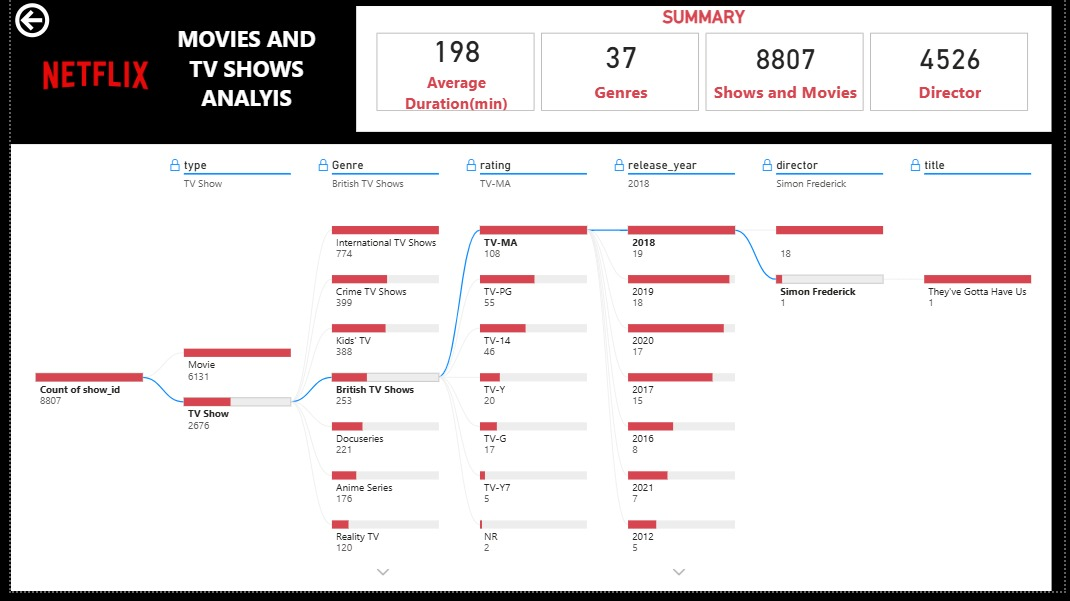

Layout of this report page (visuals, bound fields, positions):
{"tool":"powerbi","page":{"name":"Page 2","canvas":[1400,800],"ordinal":1},"visuals":[{"type":"textbox","box":[430,10,962.9,168.6],"z":0},{"type":"card","title":"Average Duration(Min)","fields":{"Values":["Avg(netflix_titles.Duration (Minutes))"]},"box":[452.4,59,225,105],"z":1000},{"type":"card","title":"Genres","fields":{"Values":["Count(netflix_titles.listed_in)"]},"box":[685.8,59,225,105],"z":2000},{"type":"card","title":"Shows and Movies","fields":{"Values":["netflix_titles.Total Movies and Tv Shows"]},"box":[920.8,59,225,105],"z":3000},{"type":"card","title":"Directors","fields":{"Values":["Count(netflix_titles.director)"]},"box":[1154.1,59,225,105],"z":4000},{"type":"image","box":[16.9,38.5,173.8,150.8],"z":5000},{"type":"textbox","box":[171.4,37.1,245.7,172.9],"z":6000},{"type":"decompositionTreeVisual","fields":{"Analyze":["CountNonNull(netflix_titles.show_id)"],"ExplainBy":["netflix_titles.type","netflix_titles.listed_in","netflix_titles.rating","netflix_titles.release_year","netflix_titles.director","netflix_titles.title"]},"box":[16.7,188.3,1376.7,600],"z":7000},{"type":"actionButton","box":[17.1,0,62.9,58.6],"z":8000}]}

Visuals, with their boxes in screenshot pixels (x1, y1, x2, y2), scaled from the page's 1400x800 canvas onto the 1070x601 screenshot:
textbox: (x1=329, y1=8, x2=1065, y2=134)
"Average Duration(Min)" card: (x1=346, y1=44, x2=518, y2=123)
"Genres" card: (x1=524, y1=44, x2=696, y2=123)
"Shows and Movies" card: (x1=704, y1=44, x2=876, y2=123)
"Directors" card: (x1=882, y1=44, x2=1054, y2=123)
image: (x1=13, y1=29, x2=146, y2=142)
textbox: (x1=131, y1=28, x2=319, y2=158)
decompositionTreeVisual - CountNonNull(netflix_titles.show_id) x netflix_titles.type: (x1=13, y1=141, x2=1065, y2=592)
actionButton: (x1=13, y1=0, x2=61, y2=44)
